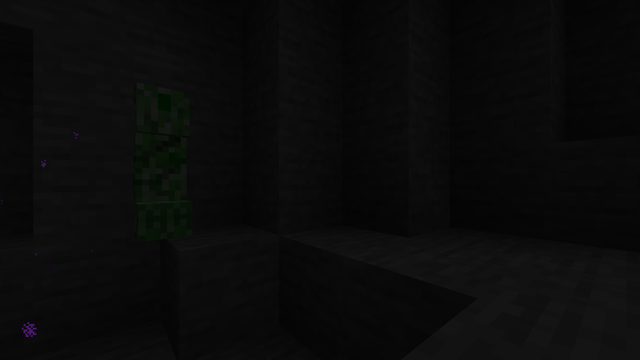creepers: (126, 72, 194, 241)
